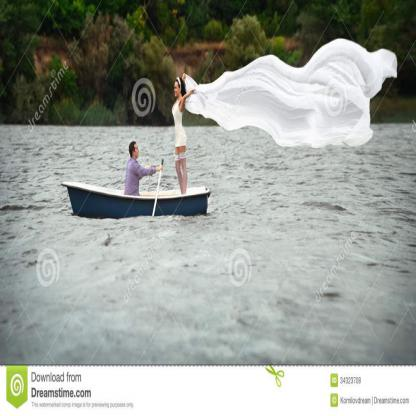face: (175, 82, 180, 97), (136, 144, 140, 157)
